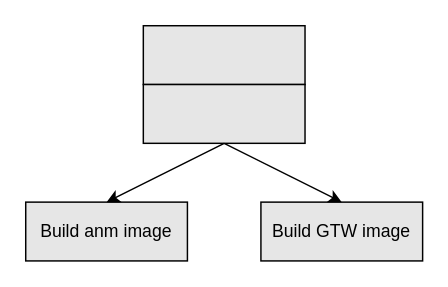
This 448x287 diagram has some shape labels left out. The shapes that lost their labels are listed below. From the top down, each one's centre as x and y in pixels, then its label:
pixel 223 54: Generate certificate
pixel 223 113: Build base image
